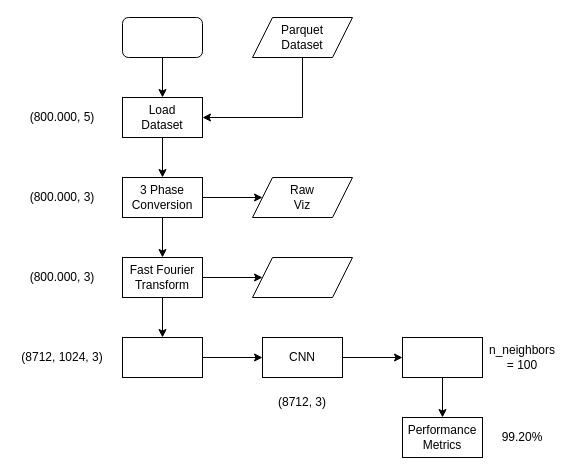
The diagram is 572 pixels wide and 475 high, and some of its shapes have lost their labels. The shapes that lost their labels are listed below. From the top down, each one's centre as x and y in pixels, then its label:
At (162,37): "Start".
At (302,277): "FFT Viz".
At (162,357): "Measurement".
At (442,357): "KNN".
